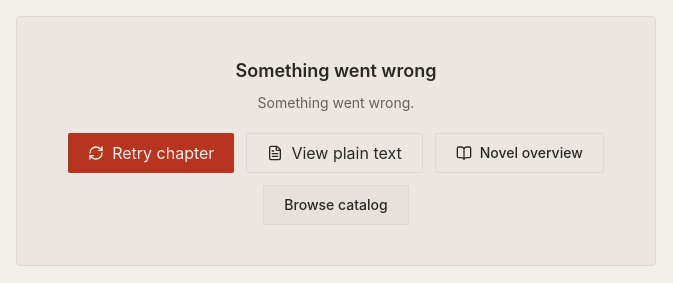
ReaderErrorBoundary recovery (REQ-6, AC-6) › renders raw chapter text without rich formatting in plain-text mode
What coordinates should you click on to do the following:
click the button "View plain text"
I would click on:
 (335, 153)
Its box is [246, 133, 423, 173].
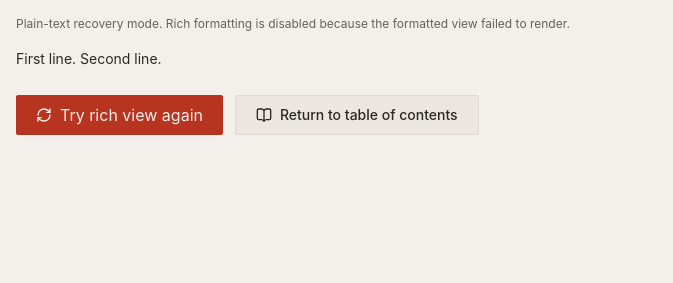
Result: the text "First line. Second line." is shown at [16, 50, 162, 67]
Result: the button "Try rich view again" is shown at [16, 95, 223, 135]
